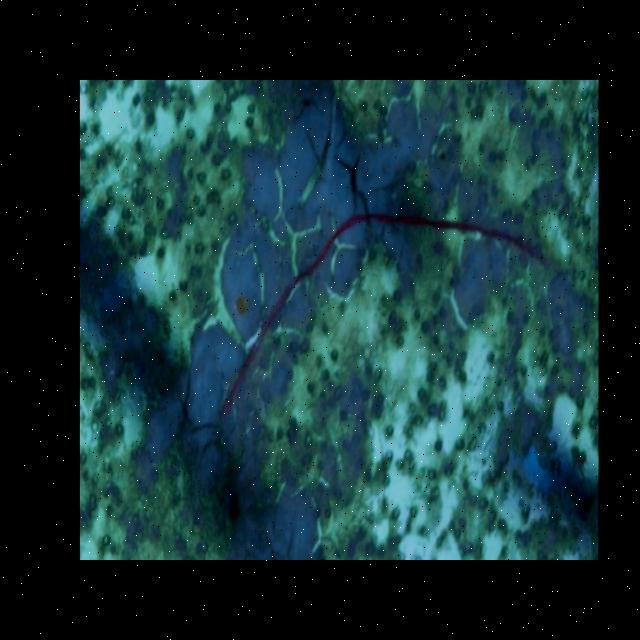Fibre: (215, 206, 570, 422)
